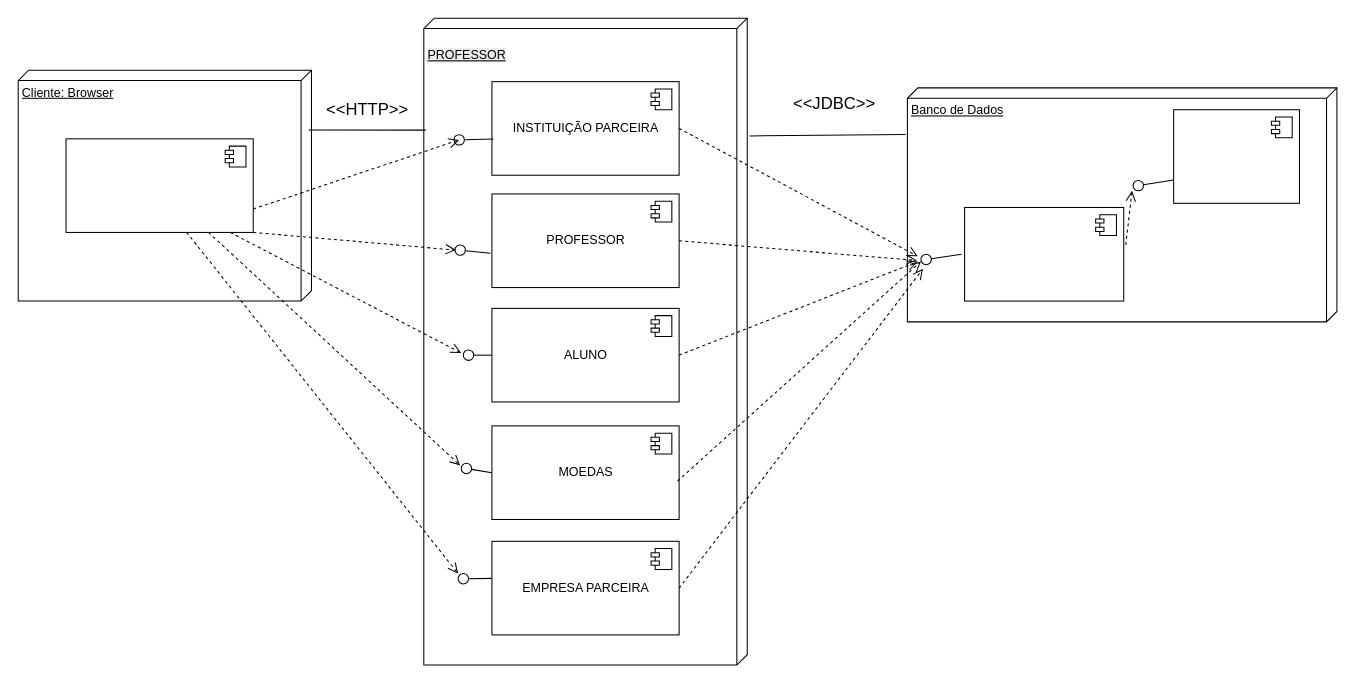
The diagram is 1355 pixels wide and 683 high, and some of its shapes have lost their labels. Each missing label, with the centre of its shape:
"Interface" goes at point (159, 185).
"Persistência" goes at point (1044, 253).
"SGBD" goes at point (1236, 156).
